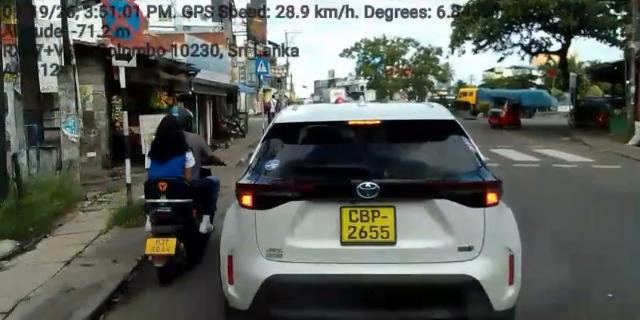number plate: (133, 100, 222, 281), (340, 207, 399, 247)
